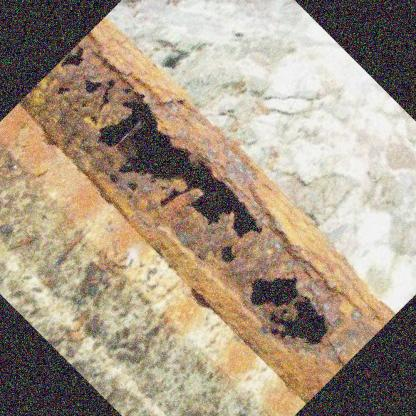burst: (93, 92, 277, 249), (248, 274, 338, 346)
